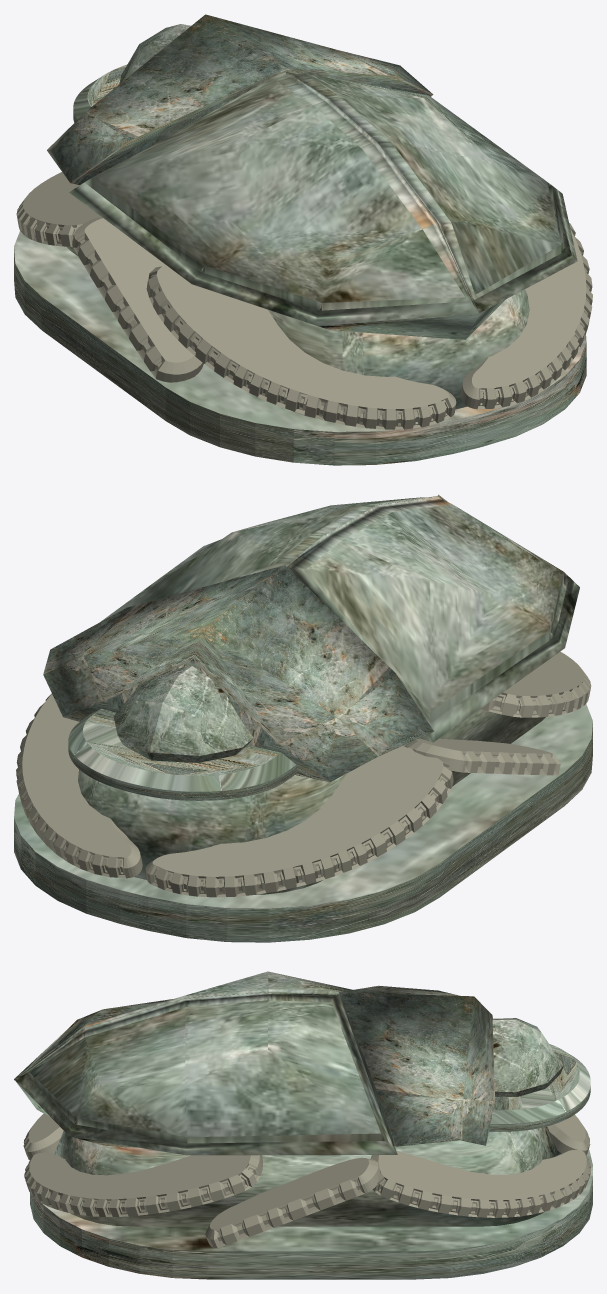
The model's file is scarabee12.glb.
3 views of the same model, one above another, from view 1: azimuth 30°, elevation 25°; view 2: azimuth 150°, elevation 25°; view 3: azimuth 270°, elevation 25° (orthographic). The views are drawn at different scales.
Visible parts, largest first — view 1: Cube.001, Cube.006, Cube, Point.008, Cube.003, Point.007, Point.001, Point, Cube.002, Cube.005; view 2: Cube.001, Cube, Cube.006, Point, Cube.003, Point.002, Cube.005, Cube.002, Point.008, Point.001; view 3: Cube.001, Cube.006, Cube, Cube.003, Point.007, Point.002, Point.006, Cube.002, Cube.005, Point.008, Point.
Boxes of the visible parts, x1,y1,x2,y2 form: Cube.001: (69, 70, 577, 339); Cube.006: (14, 231, 586, 465); Cube: (47, 14, 433, 184); Point.008: (146, 264, 456, 429); Cube.003: (66, 246, 529, 417); Point.007: (460, 223, 592, 409); Point.001: (72, 217, 203, 382); Point: (16, 172, 101, 246); Cube.002: (119, 24, 190, 83); Cube.005: (73, 64, 127, 122); Cube.001: (100, 494, 579, 742); Cube: (43, 565, 433, 782); Cube.006: (14, 704, 592, 942); Point: (145, 746, 453, 897); Cube.003: (78, 709, 545, 894); Point.002: (16, 693, 142, 878); Cube.005: (68, 708, 297, 800); Cube.002: (113, 666, 253, 762); Point.008: (480, 651, 591, 717); Point.001: (405, 738, 560, 775); Cube.001: (14, 971, 397, 1155); Cube.006: (30, 1149, 592, 1279); Cube: (339, 985, 494, 1146); Cube.003: (54, 1126, 561, 1226); Point.007: (24, 1152, 262, 1216); Point.002: (370, 1150, 591, 1217); Point.006: (205, 1157, 380, 1248); Cube.002: (492, 1018, 563, 1096); Cube.005: (489, 1044, 590, 1131); Point.008: (23, 1113, 63, 1160); Point: (547, 1114, 590, 1155).
Size of the model in its own units: 5.88 by 3.45 by 8.71.
Materials: 1 (1 with a texture image).
